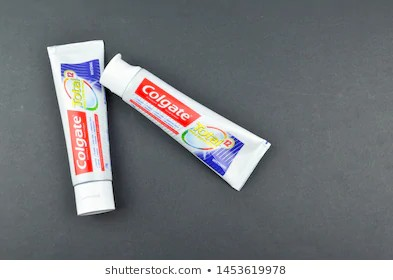colgate-total-150gm: (102, 47, 271, 196), (44, 34, 121, 217)
